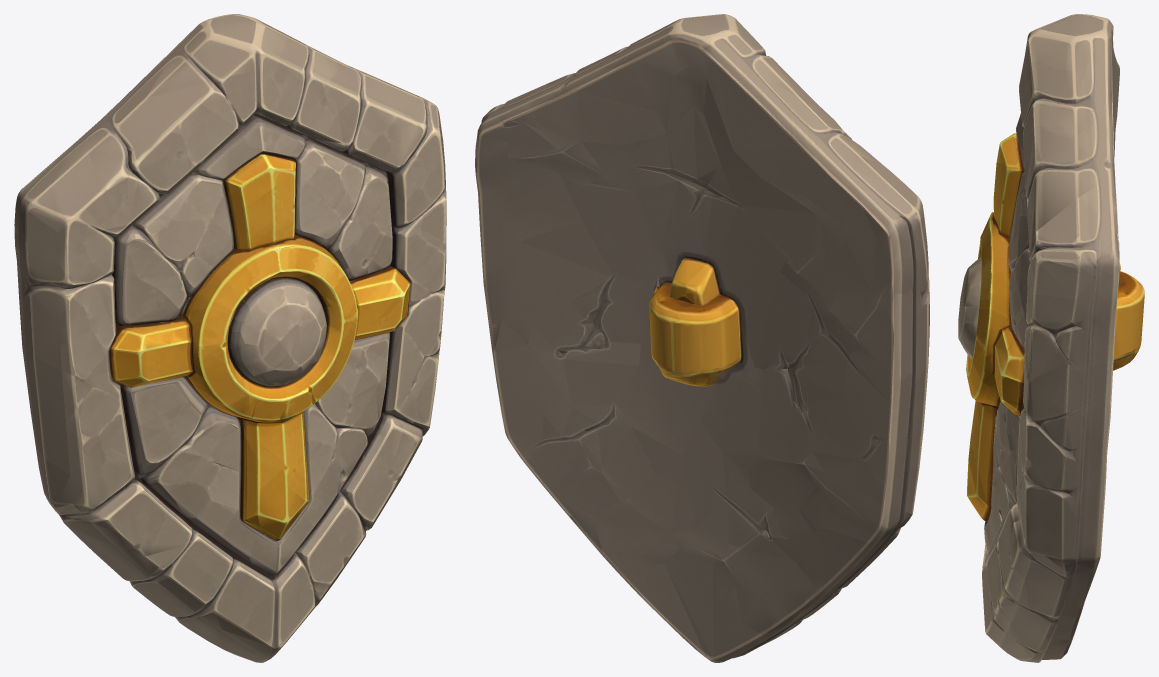
The model's file is shield-original.glb.
The picture shows the model from 3 angles, left to right: view 1: azimuth 30°, elevation 25°; view 2: azimuth 150°, elevation 25°; view 3: azimuth 270°, elevation 25°; orthographic projection. The views are drawn at different scales.
Visible parts, largest first — view 1: output_unwrapped; view 2: output_unwrapped; view 3: output_unwrapped.
Boxes of the visible parts, <box> form: output_unwrapped: <box>14,14,446,662</box>; output_unwrapped: <box>475,14,929,662</box>; output_unwrapped: <box>958,14,1144,662</box>.
Bounding box in the file's own units: 1.34 × 1.9 × 0.5044.
Materials: 1 (1 with a texture image).
